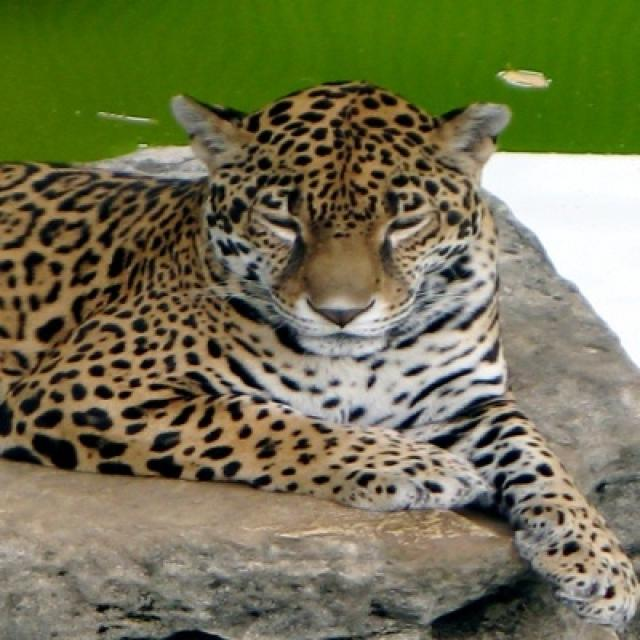Jaguar: (0, 82, 638, 635)
